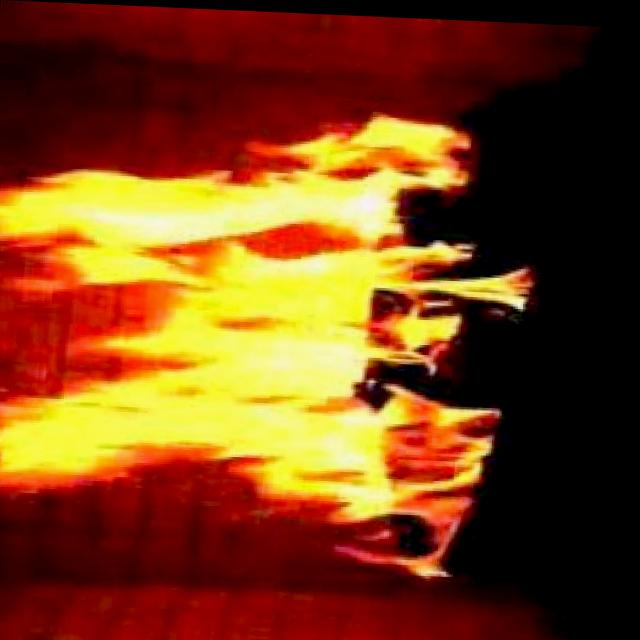Fire: (0, 91, 553, 589)
